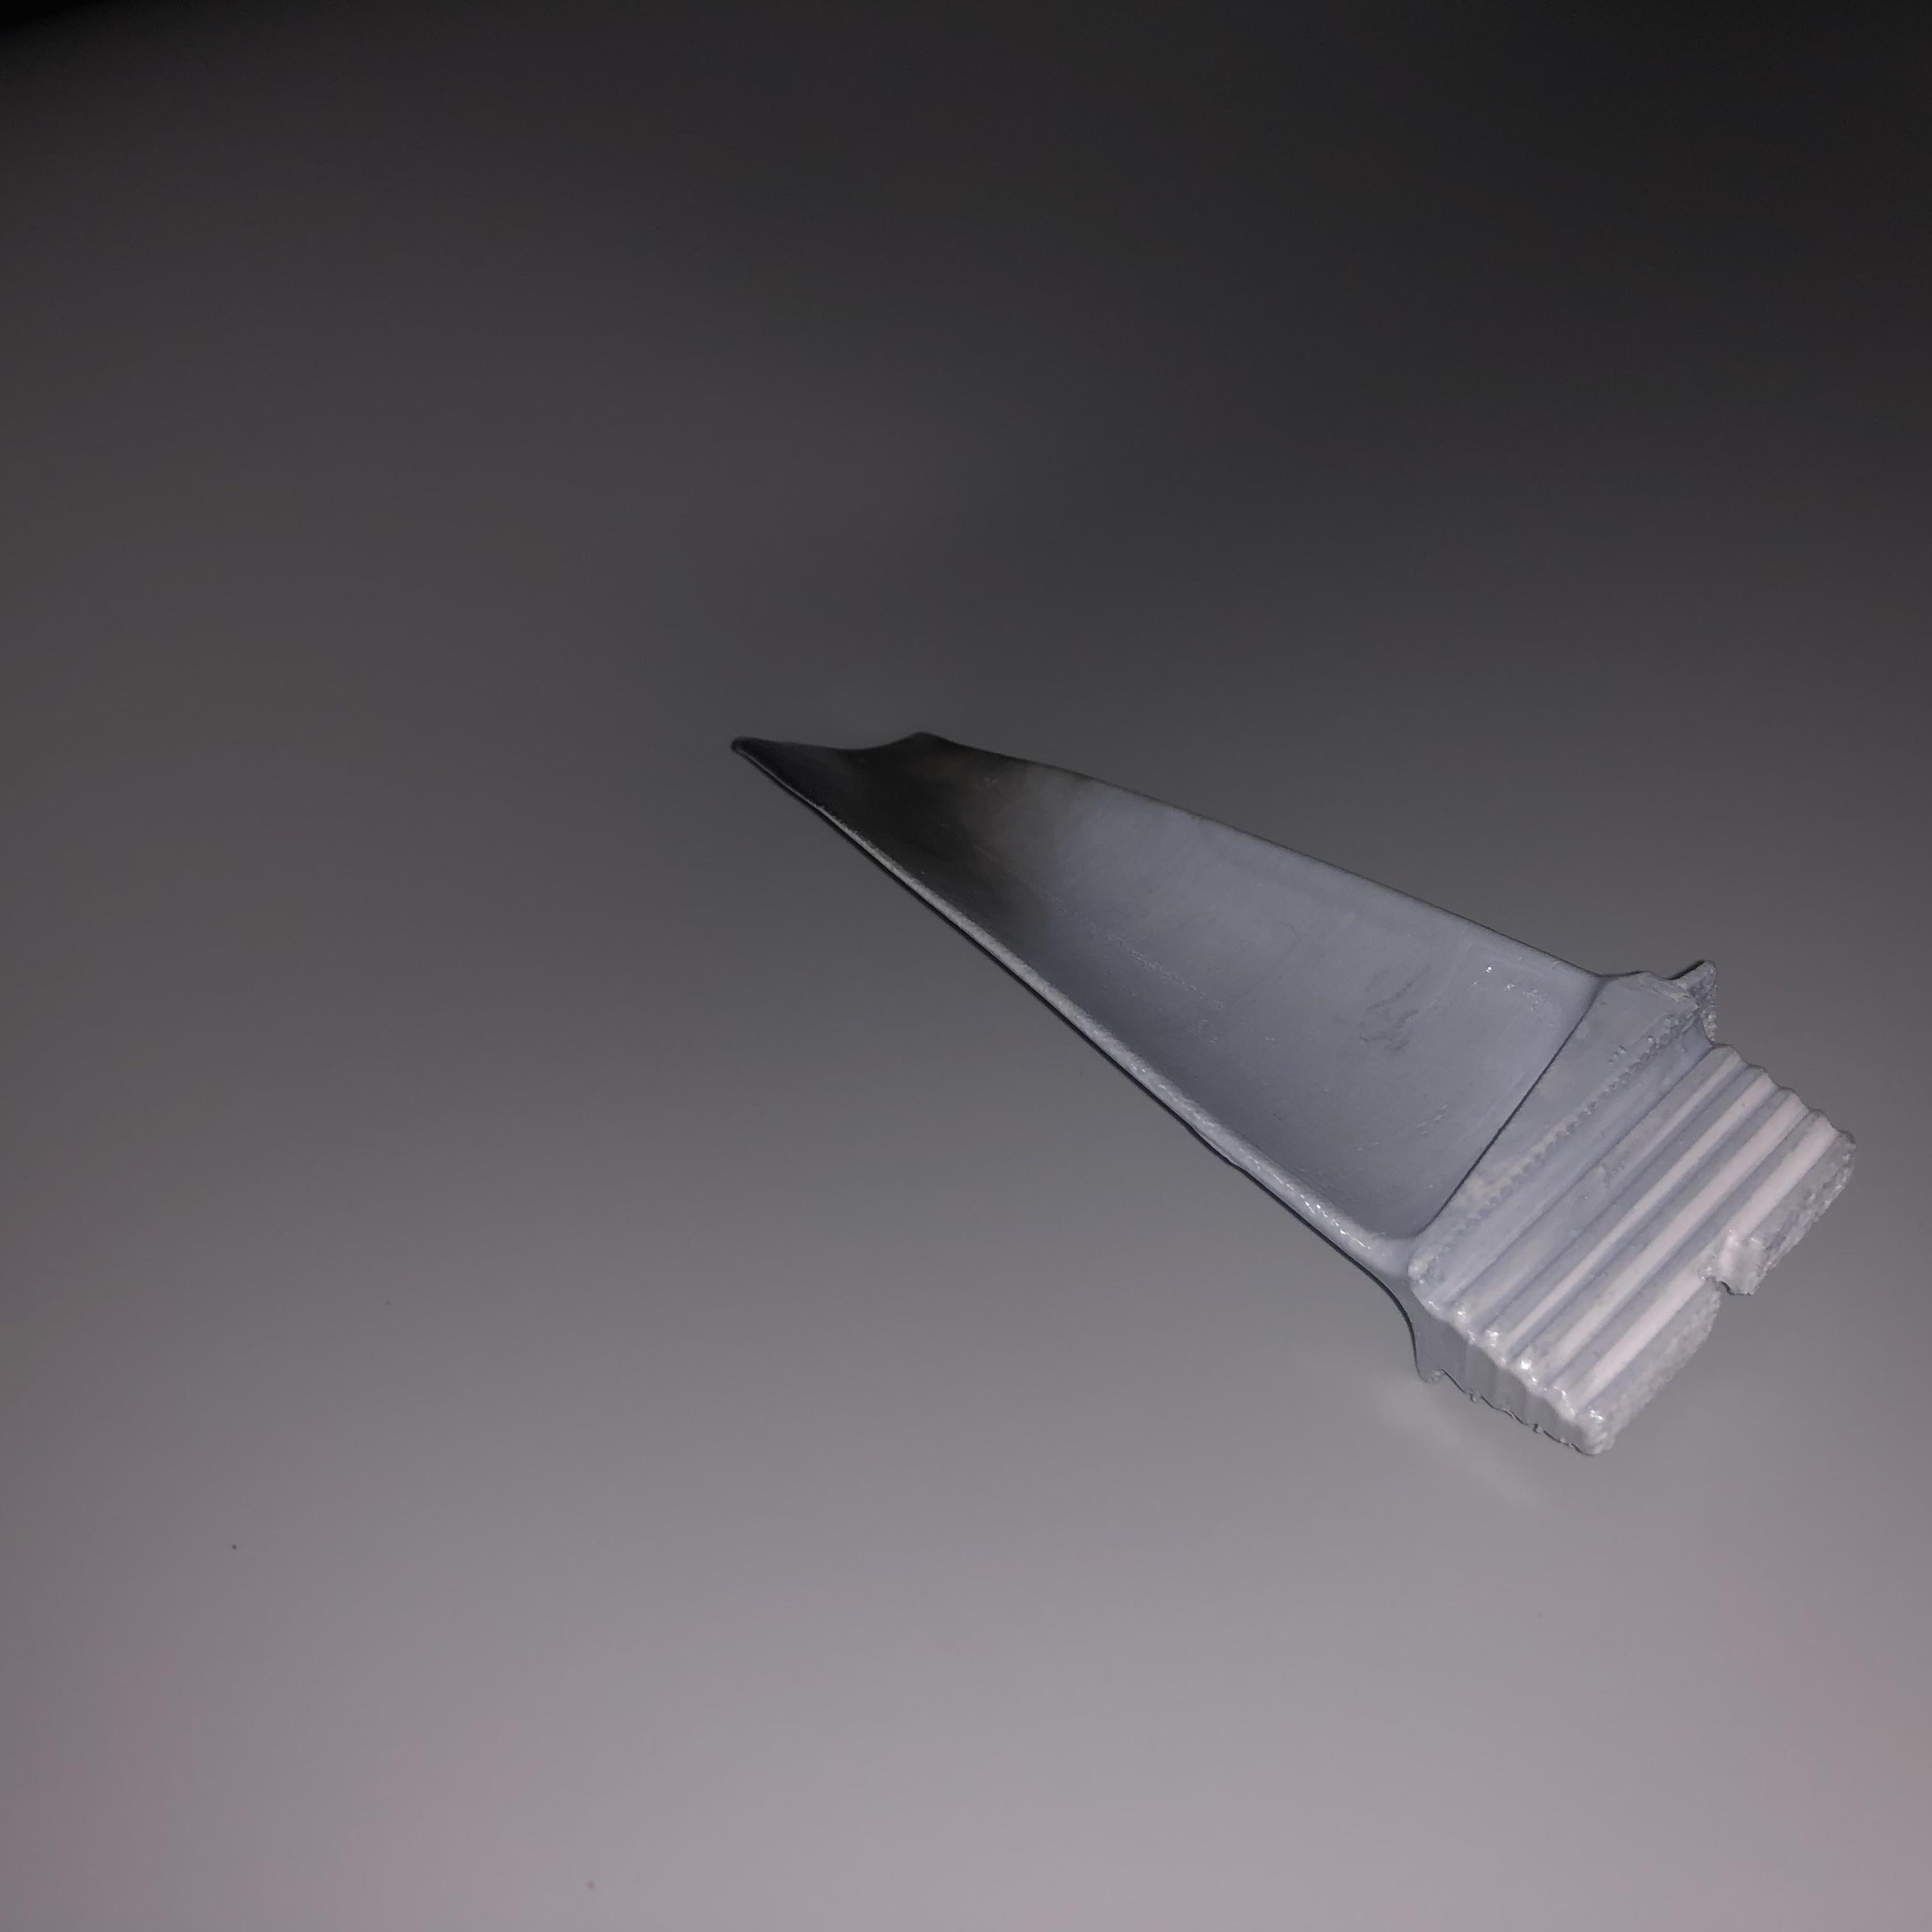ablation: (764, 738, 1069, 911)
